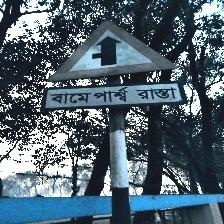Side-road-left: (43, 19, 185, 113)
